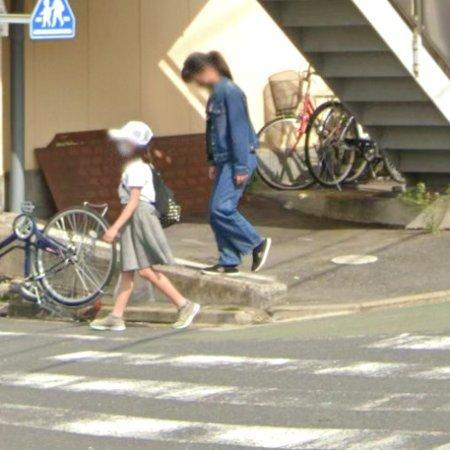crosswalks: (0, 328, 450, 450)
